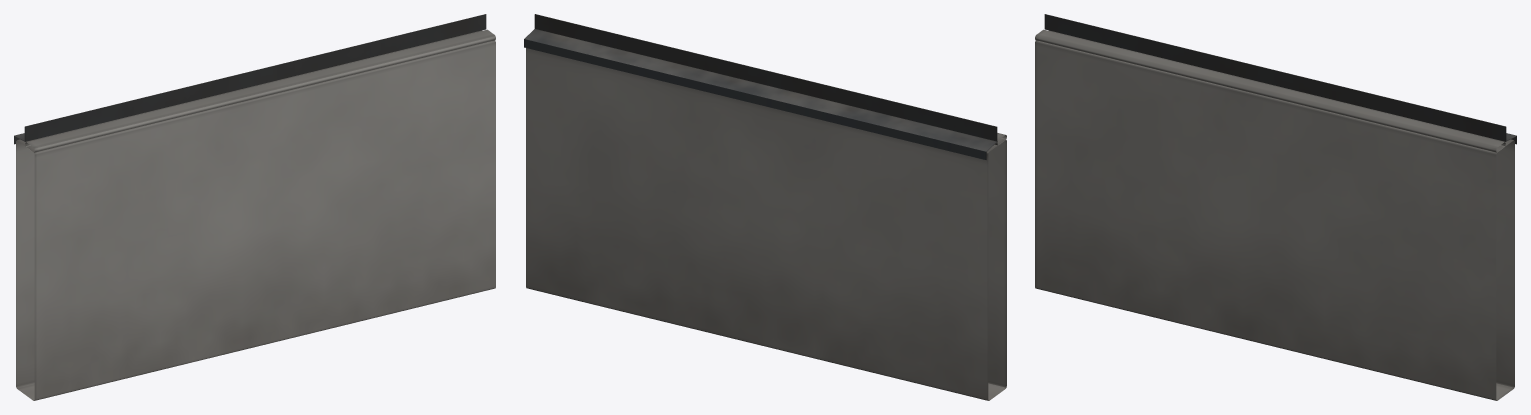
File: Wall_Plinth.fbx
3 views of the same model, side by side, from view 1: azimuth 30°, elevation 25°; view 2: azimuth 150°, elevation 25°; view 3: azimuth 330°, elevation 25° (orthographic).
Visible parts, largest first — view 1: Wall_Plinth_LOD0; view 2: Wall_Plinth_LOD0; view 3: Wall_Plinth_LOD0.
Boxes of the visible parts, box(x1,y1,x2,y2) form: Wall_Plinth_LOD0: box(14, 14, 495, 400); Wall_Plinth_LOD0: box(524, 14, 1006, 400); Wall_Plinth_LOD0: box(1035, 14, 1516, 400).
Bounding box in the file's own units: 2 × 1.11 × 0.155.
1 material, 1 textured.
